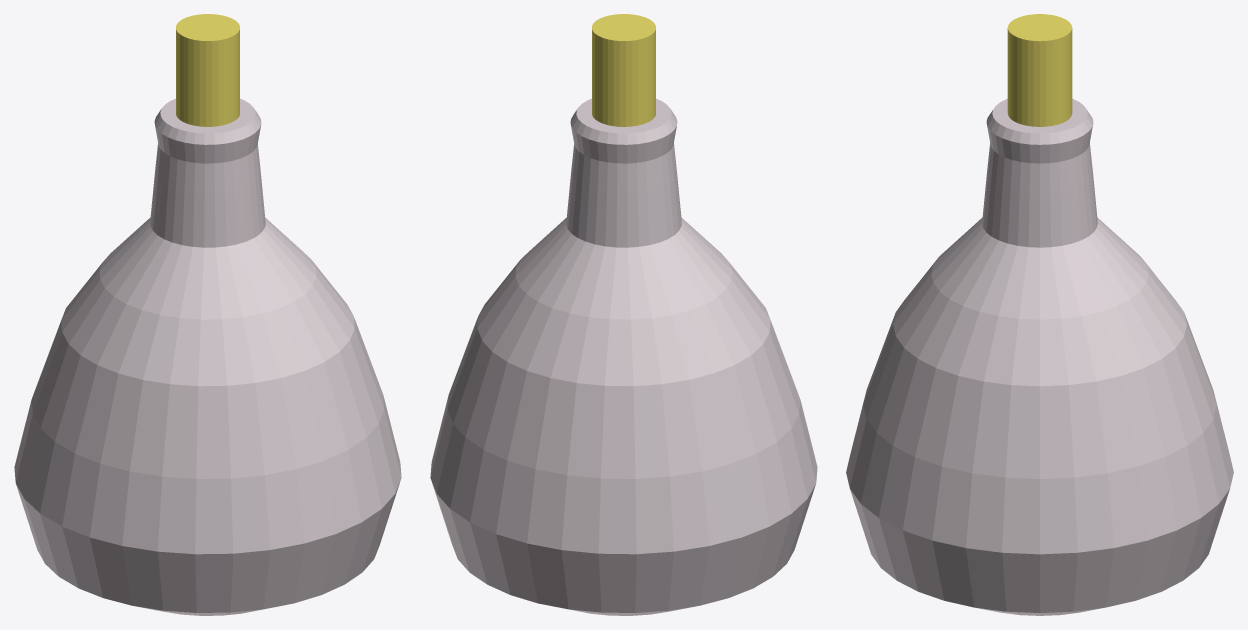
File: empty bottle.glb
3 renders of one model, left to right at view 1: azimuth 30°, elevation 25°; view 2: azimuth 150°, elevation 25°; view 3: azimuth 270°, elevation 25°, orthographic.
Parts seen in each view (by area): view 1: Cylinder; view 2: Cylinder; view 3: Cylinder.
Boxes of the visible parts, x1,y1,x2,y2 form: Cylinder: (14,14,401,615); Cylinder: (430,14,817,615); Cylinder: (846,14,1233,615).
Size of the model in its own units: 0.5314 by 0.824 by 0.5314.
